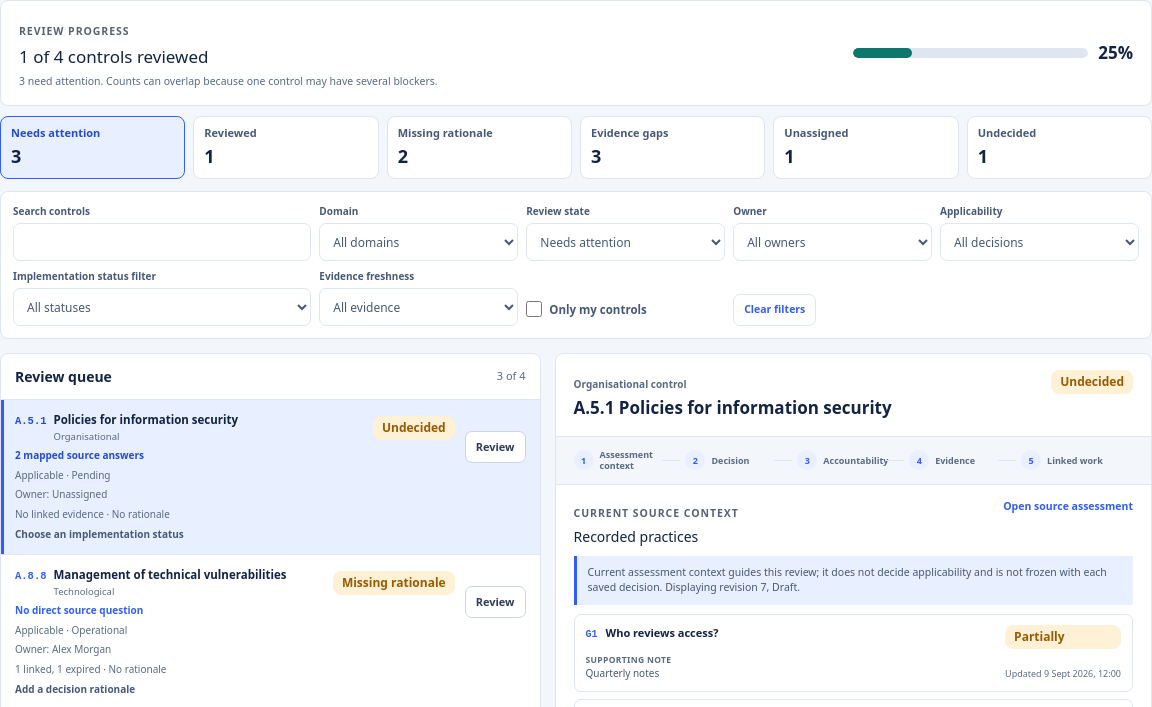
Test: SoaReviewWorkspace › limits the queue to controls owned by the current user
Click the checkbox labelled "Only my controls" at (534, 309), box [526, 301, 542, 317]
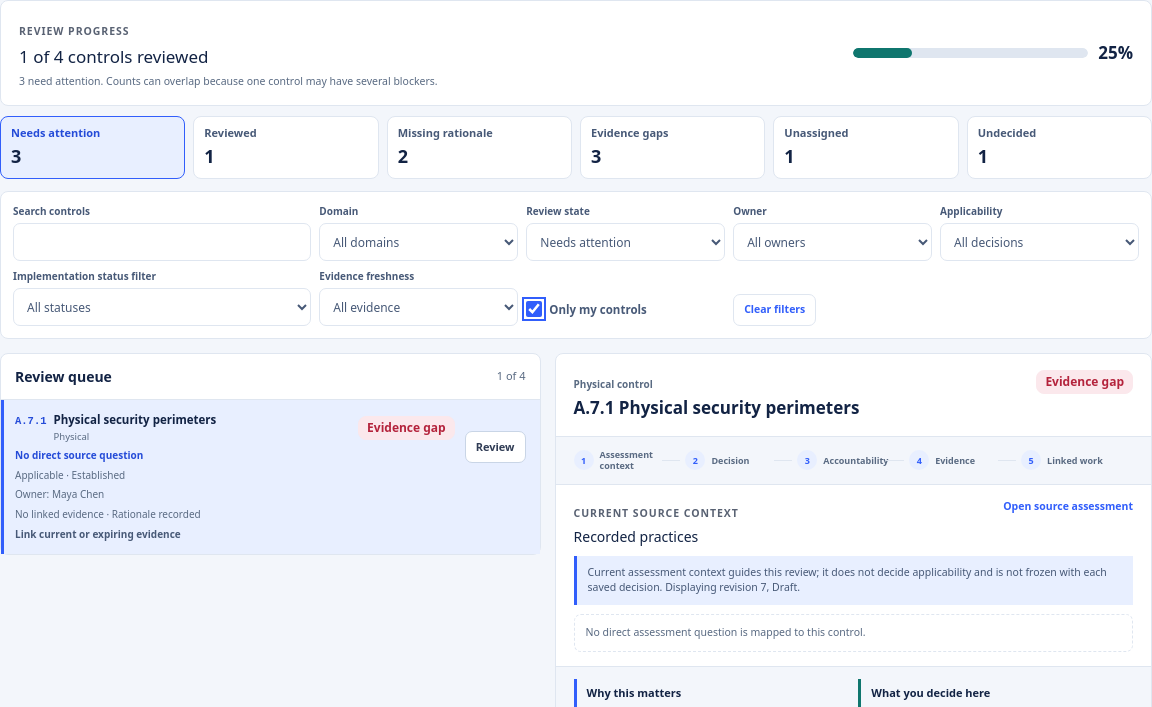
Expected: the text "Physical security perimeters" is shown, [54, 412, 216, 427]
Now the text "Policies for information security" is gone
Now the text "Management of technical vulnerabilities" is gone
